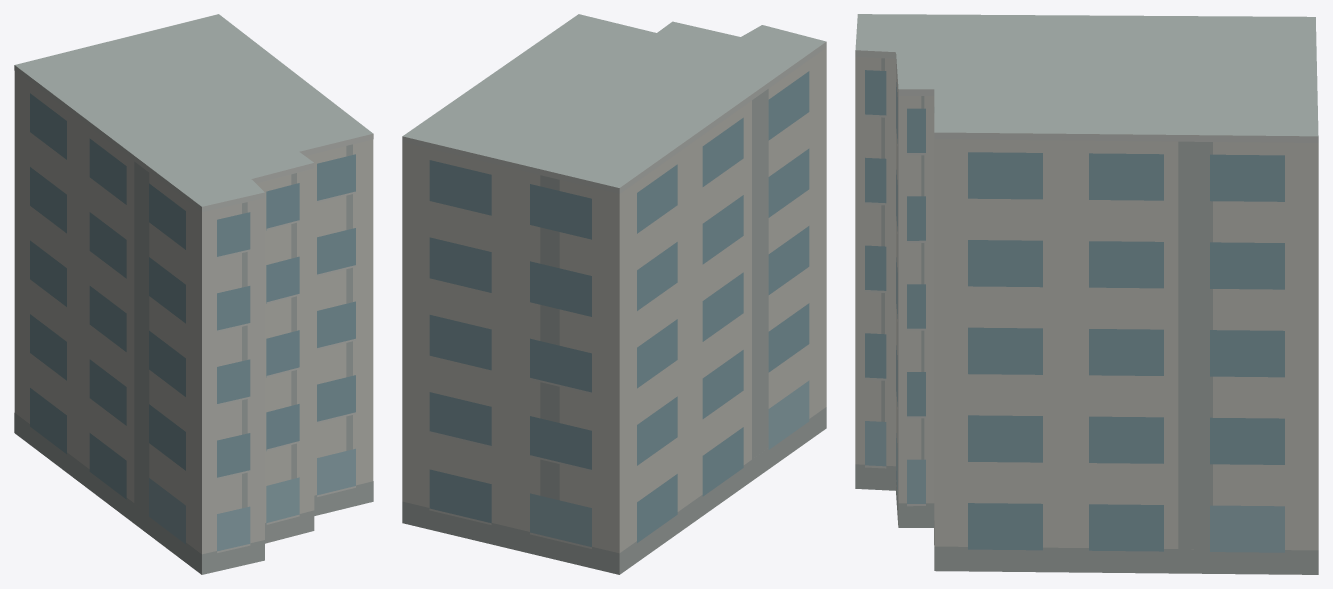
The model's file is survey-upis-32750016.glb.
3 views of the same model, side by side, from view 1: azimuth 30°, elevation 25°; view 2: azimuth 150°, elevation 25°; view 3: azimuth 270°, elevation 25° (orthographic). The views are drawn at different scales.
Parts seen in each view (by area): view 1: survey-upis-32750016.tmp; view 2: survey-upis-32750016.tmp; view 3: survey-upis-32750016.tmp.
Part boxes in pixels (x1=…): survey-upis-32750016.tmp: x1=14, y1=14, x2=373, y2=574; survey-upis-32750016.tmp: x1=402, y1=14, x2=826, y2=574; survey-upis-32750016.tmp: x1=855, y1=14, x2=1318, y2=574.
Size of the model in its own units: 9.5 by 15.86 by 15.19.
